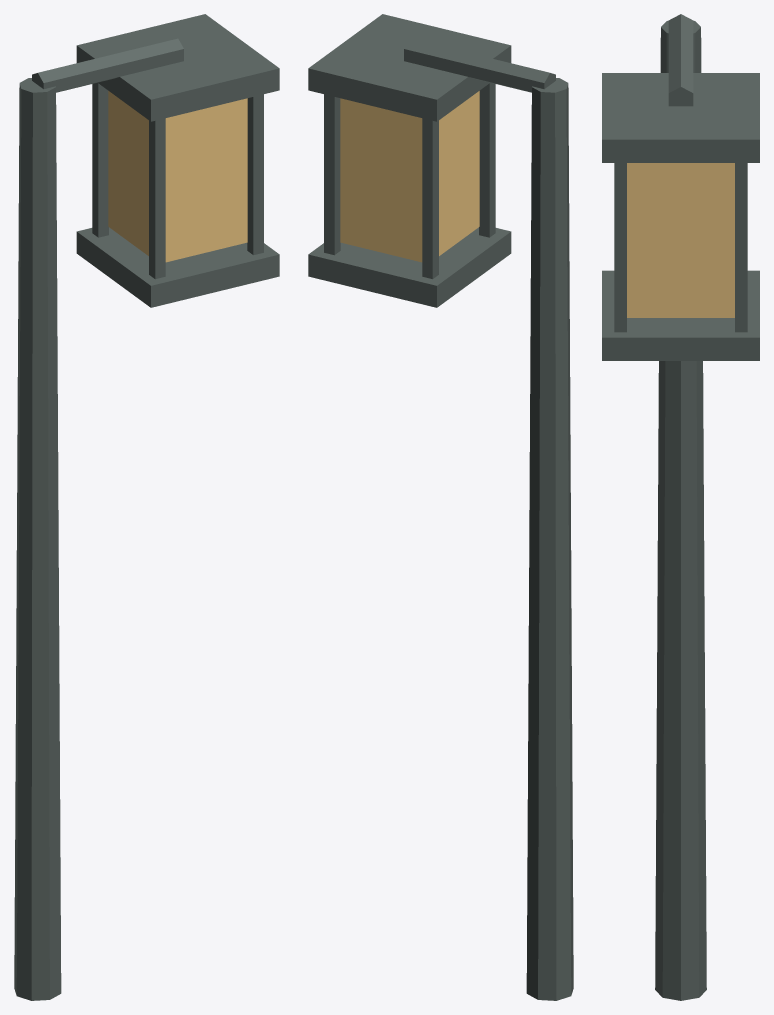
Rendered from detail_lantern.glb.
3 renders of one model, left to right at view 1: azimuth 30°, elevation 25°; view 2: azimuth 150°, elevation 25°; view 3: azimuth 270°, elevation 25°, orthographic. The views are drawn at different scales.
Visible parts, largest first — view 1: detail_lantern; view 2: detail_lantern; view 3: detail_lantern.
Part boxes in pixels (box(x1,y1,x2,y2)): detail_lantern: box(14, 14, 279, 1000); detail_lantern: box(308, 14, 573, 1000); detail_lantern: box(602, 14, 759, 1000).
Size of the model in its own units: 0.965 by 3.75 by 0.55.
